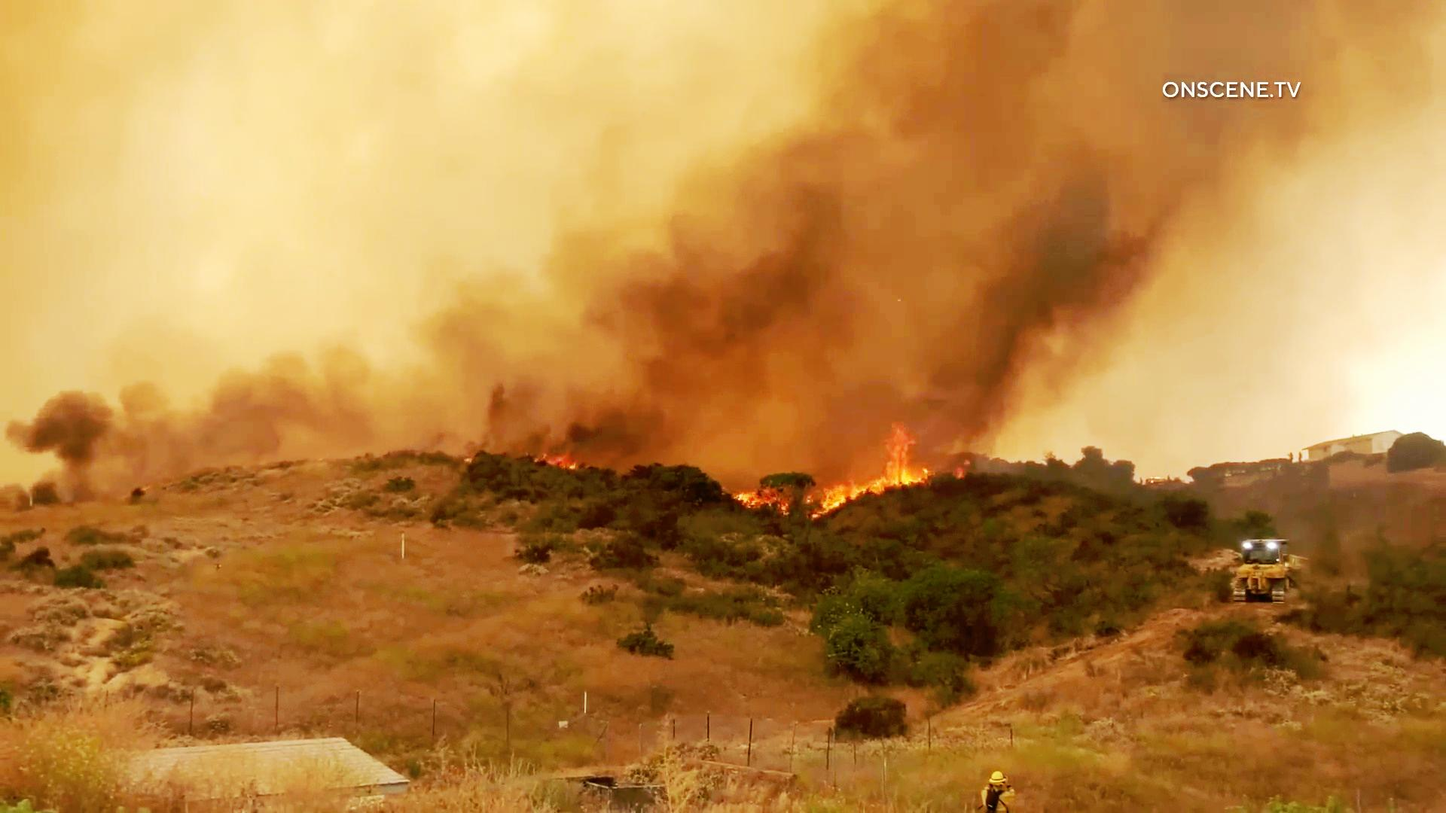fire: (955, 175, 1121, 425), (795, 416, 946, 527)
